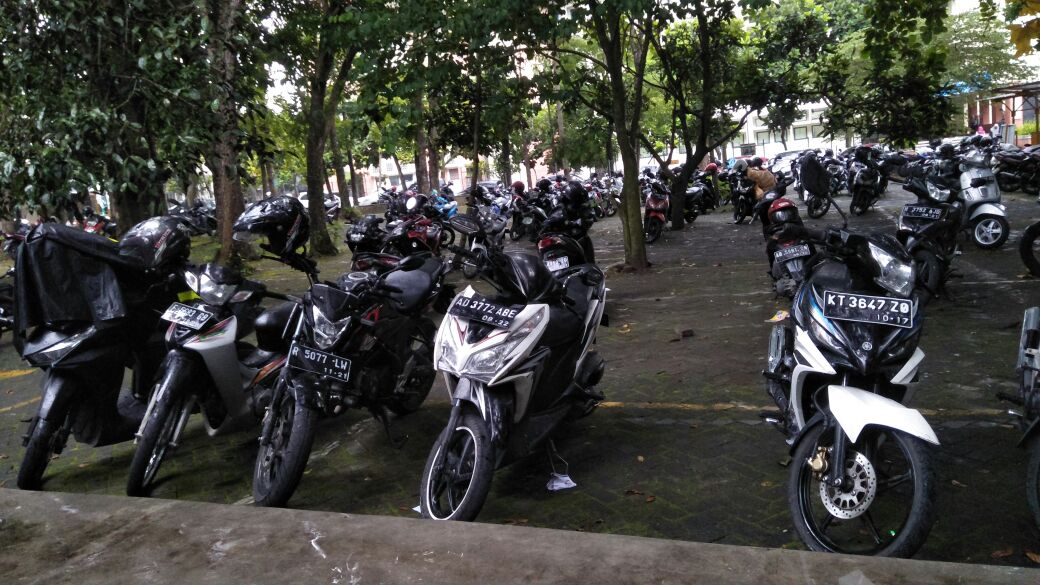plate: (823, 293, 915, 323), (289, 343, 352, 381), (452, 293, 519, 325), (160, 299, 215, 334)
